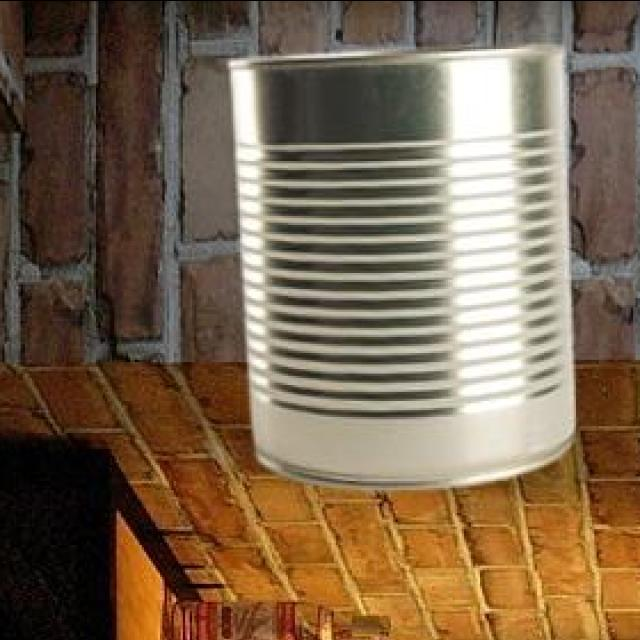logam: (232, 49, 577, 493)
